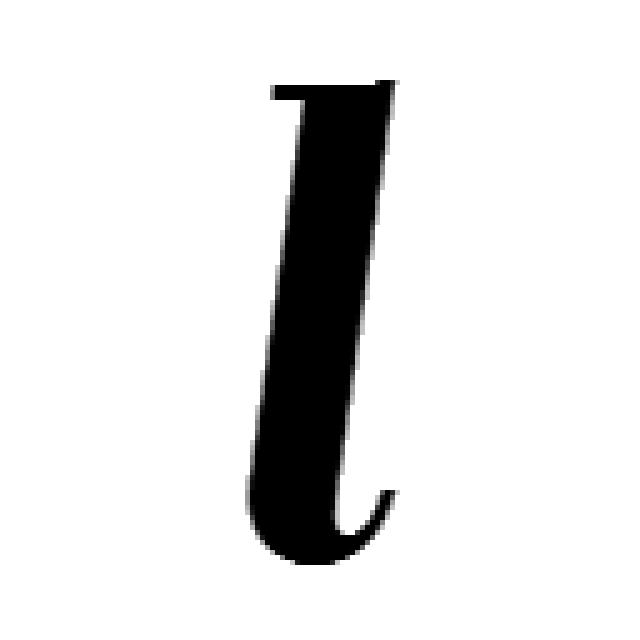L: (221, 57, 429, 569)
